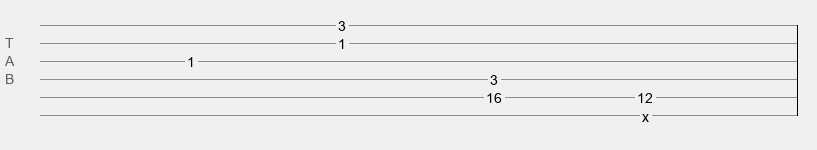1: (187, 54, 195, 64), (338, 36, 346, 46)
12: (637, 90, 653, 100)
16: (486, 90, 502, 100)
3: (338, 18, 346, 28), (490, 72, 498, 82)
x: (642, 109, 649, 117)
